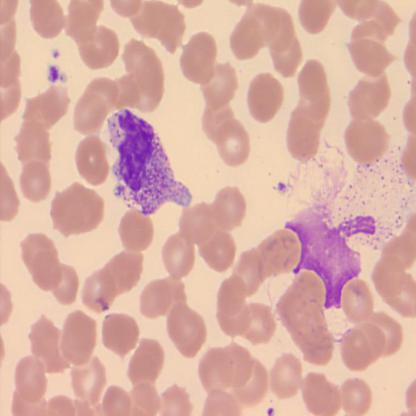Metamyelocyte: (104, 105, 194, 218)
